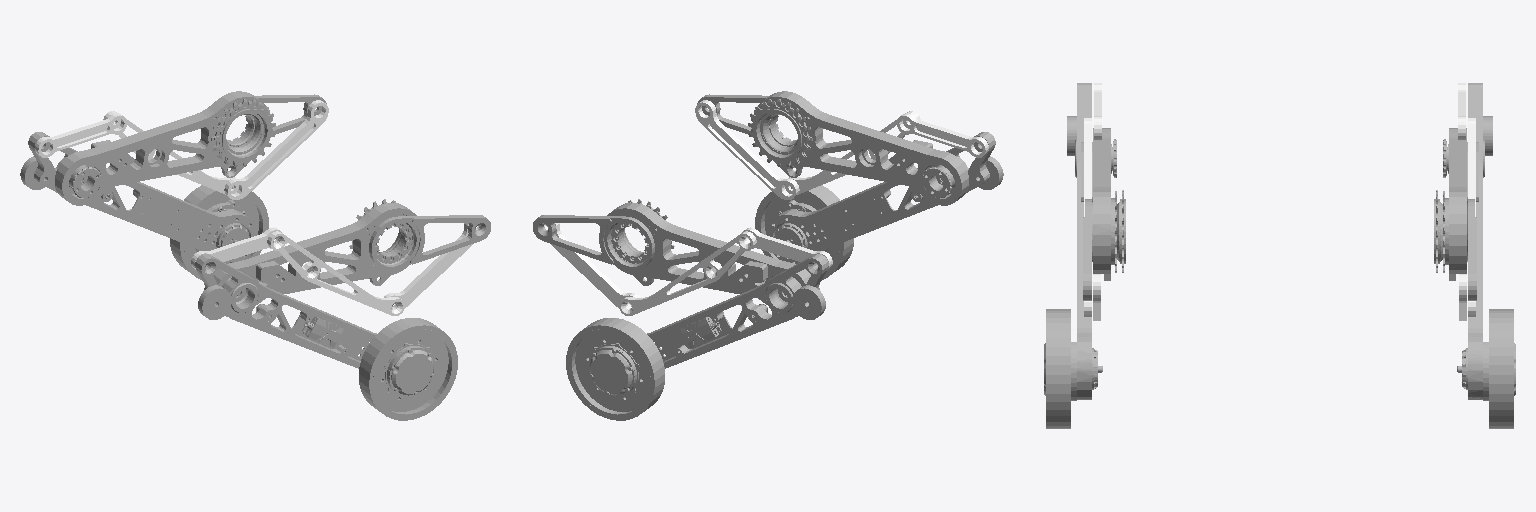
URDF robot description (wheel_leg):
<?xml version="1.0" encoding="utf-8"?>
<!-- This URDF was automatically created by SolidWorks to URDF Exporter! Originally created by Stephen Brawner (brawner@gmail.com) 
     Commit Version: 1.6.0-4-g7f85cfe  Build Version: 1.6.7995.38578
     For more information, please see http://wiki.ros.org/sw_urdf_exporter -->
<robot
  name="wheel_leg">
  <link
    name="base_link">
    <inertial>
      <origin
        xyz="-0.00746094 0.00090321 0.00604838"
        rpy="0 0 0" />
      <mass
        value="16.54216288" />
      <inertia
        ixx="0.41748778"
        ixy="0.00046838"
        ixz="0.01213606"
        iyy="0.41356974"
        iyz="-0.00410317"
        izz="0.49536783" />
    </inertial>
    <visual>
      <origin
        xyz="0 0 0"
        rpy="0 0 0" />
      <geometry>
        <mesh
          filename="package://urdf/meshes/base_link.STL" />
      </geometry>
      <material
        name="">
        <color
          rgba="0.75294 0.75294 0.75294 1" />
      </material>
    </visual>
    <collision>
      <origin
        xyz="0 0 0"
        rpy="0 0 0" />
      <geometry>
        <mesh
          filename="package://urdf/meshes/base_link.STL" />
      </geometry>
    </collision>
  </link>
  <link
    name="left_leg_hip1_link">
    <inertial>
      <origin
        xyz="-0.086207 -0.0093081 -0.0071445"
        rpy="0 0 0" />
      <mass
        value="0.53238" />
      <inertia
        ixx="0.00028513"
        ixy="3.881E-05"
        ixz="-0.00016116"
        iyy="0.0035718"
        iyz="-4.2E-07"
        izz="0.0033255" />
    </inertial>
    <visual>
      <origin
        xyz="0 0 0"
        rpy="0 0 0" />
      <geometry>
        <mesh
          filename="package://urdf/meshes/left_leg_hip1_link.STL" />
      </geometry>
      <material
        name="">
        <color
          rgba="0.75294 0.75294 0.75294 1" />
      </material>
    </visual>
    <collision>
      <origin
        xyz="0 0 0"
        rpy="0 0 0" />
      <geometry>
        <mesh
          filename="package://urdf/meshes/left_leg_hip1_link.STL" />
      </geometry>
    </collision>
  </link>
  <joint
    name="left_leg_hip1_joint"
    type="continuous">
    <origin
      xyz="0 0.187 0"
      rpy="0 0 0" />
    <parent
      link="base_link" />
    <child
      link="left_leg_hip1_link" />
    <axis
      xyz="0 -1 0" />
  </joint>
  <link
    name="left_leg_knee_link">
    <inertial>
      <origin
        xyz="0.06010178 0.00644376 -0.04165431"
        rpy="0 0 0" />
      <mass
        value="0.34933979" />
      <inertia
        ixx="0.00107659"
        ixy="-0.00000993"
        ixz="0.00150980"
        iyy="0.00354276"
        iyz="0.00001318"
        izz="0.00251609" />
    </inertial>
    <visual>
      <origin
        xyz="0 0 0"
        rpy="0 0 0" />
      <geometry>
        <mesh
          filename="package://urdf/meshes/left_leg_knee_link.STL" />
      </geometry>
      <material
        name="">
        <color
          rgba="0.75294 0.75294 0.75294 1" />
      </material>
    </visual>
    <collision>
      <origin
        xyz="0 0 0"
        rpy="0 0 0" />
      <geometry>
        <mesh
          filename="package://urdf/meshes/left_leg_knee_link.STL" />
      </geometry>
    </collision>
  </link>
  <joint
    name="left_leg_knee_joint"
    type="continuous">
    <origin
      xyz="-0.20933 0 -0.016769"
      rpy="0 0 0" />
    <parent
      link="left_leg_hip1_link" />
    <child
      link="left_leg_knee_link" />
    <axis
      xyz="0 1 0" />
  </joint>
  <link
    name="left_leg_wheel_link">
    <inertial>
      <origin
        xyz="0.00020765 0.030642 -0.00012623"
        rpy="0 0 0" />
      <mass
        value="0.28258" />
      <inertia
        ixx="0.00029613"
        ixy="6.6E-07"
        ixz="-4.4E-07"
        iyy="0.00053291"
        iyz="-3.9E-07"
        izz="0.00029565" />
    </inertial>
    <visual>
      <origin
        xyz="0 0 0"
        rpy="0 0 0" />
      <geometry>
        <mesh
          filename="package://urdf/meshes/left_leg_wheel_link.STL" />
      </geometry>
      <material
        name="">
        <color
          rgba="0.75294 0.75294 0.75294 1" />
      </material>
    </visual>
    <collision>
      <origin
        xyz="0 0 0"
        rpy="0 0 0" />
      <geometry>
        <mesh
          filename="package://urdf/meshes/left_leg_wheel_link.STL" />
      </geometry>
    </collision>
  </link>
  <joint
    name="left_leg_wheel_joint"
    type="continuous">
    <origin
      xyz="0.2111 0 -0.13393"
      rpy="0 0 0" />
    <parent
      link="left_leg_knee_link" />
    <child
      link="left_leg_wheel_link" />
    <axis
      xyz="0 1 0" />
  </joint>
  <link
    name="left_leg_hip2_link">
    <inertial>
      <origin
        xyz="0.027043 -0.0063817 -0.0015296"
        rpy="0 0 0" />
      <mass
        value="0.12267" />
      <inertia
        ixx="6.524E-05"
        ixy="-3.832E-05"
        ixz="1.092E-05"
        iyy="0.0002766"
        iyz="2.17E-06"
        izz="0.00025765" />
    </inertial>
    <visual>
      <origin
        xyz="0 0 0"
        rpy="0 0 0" />
      <geometry>
        <mesh
          filename="package://urdf/meshes/left_leg_hip2_link.STL" />
      </geometry>
      <material
        name="">
        <color
          rgba="0.75294 0.75294 0.75294 1" />
      </material>
    </visual>
    <collision>
      <origin
        xyz="0 0 0"
        rpy="0 0 0" />
      <geometry>
        <mesh
          filename="package://urdf/meshes/left_leg_hip2_link.STL" />
      </geometry>
    </collision>
  </link>
  <joint
    name="left_leg_hip2_joint"
    type="continuous">
    <origin
      xyz="0 0.187 0"
      rpy="0 0 0" />
    <parent
      link="base_link" />
    <child
      link="left_leg_hip2_link" />
    <axis
      xyz="0 1 0" />
  </joint>
  <link
    name="left_leg_knee_father1_link">
    <inertial>
      <origin
        xyz="-0.052695 -0.0035417 -0.042635"
        rpy="0 0 0" />
      <mass
        value="0.028977" />
      <inertia
        ixx="2.2144E-05"
        ixy="-1.7925E-08"
        ixz="-3.0736E-05"
        iyy="6.947E-05"
        iyz="2.684E-08"
        izz="4.7639E-05" />
    </inertial>
    <visual>
      <origin
        xyz="0 0 0"
        rpy="0 0 0" />
      <geometry>
        <mesh
          filename="package://urdf/meshes/left_leg_knee_father1_link.STL" />
      </geometry>
      <material
        name="">
        <color
          rgba="1 1 1 1" />
      </material>
    </visual>
    <collision>
      <origin
        xyz="0 0 0"
        rpy="0 0 0" />
      <geometry>
        <mesh
          filename="package://urdf/meshes/left_leg_knee_father1_link.STL" />
      </geometry>
    </collision>
  </link>
  <joint
    name="left_leg_knee_father1_joint"
    type="continuous">
    <origin
      xyz="0.11322 0 -0.0064037"
      rpy="0 0 0" />
    <parent
      link="left_leg_hip2_link" />
    <child
      link="left_leg_knee_father1_link" />
    <axis
      xyz="0 1 0" />
  </joint>
  <link
    name="left_leg_knee_father2_link">
    <inertial>
      <origin
        xyz="-0.083089 0.0049101 0.056116"
        rpy="0 0 0" />
      <mass
        value="0.04884" />
      <inertia
        ixx="7.9882E-05"
        ixy="-3.5508E-08"
        ixz="9.7996E-05"
        iyy="0.00020875"
        iyz="3.7273E-08"
        izz="0.00012937" />
    </inertial>
    <visual>
      <origin
        xyz="0 0 0"
        rpy="0 0 0" />
      <geometry>
        <mesh
          filename="package://urdf/meshes/left_leg_knee_father2_link.STL" />
      </geometry>
      <material
        name="">
        <color
          rgba="1 1 1 1" />
      </material>
    </visual>
    <collision>
      <origin
        xyz="0 0 0"
        rpy="0 0 0" />
      <geometry>
        <mesh
          filename="package://urdf/meshes/left_leg_knee_father2_link.STL" />
      </geometry>
    </collision>
  </link>
  <joint
    name="left_leg_knee_father2_joint"
    type="continuous">
    <origin
      xyz="-0.11227 0 -0.074976"
      rpy="0 0 0" />
    <parent
      link="left_leg_knee_father1_link" />
    <child
      link="left_leg_knee_father2_link" />
    <axis
      xyz="0 1 0" />
  </joint>
  <link
    name="left_leg_knee_father3_link">
    <inertial>
      <origin
        xyz="-0.048146 -0.0040765 -0.0038569"
        rpy="0 0 0" />
      <mass
        value="0.020187" />
      <inertia
        ixx="1.0501E-06"
        ixy="0"
        ixz="-1.949E-06"
        iyy="2.6055E-05"
        iyz="0"
        izz="2.5224E-05" />
    </inertial>
    <visual>
      <origin
        xyz="0 0 0"
        rpy="0 0 0" />
      <geometry>
        <mesh
          filename="package://urdf/meshes/left_leg_knee_father3_link.STL" />
      </geometry>
      <material
        name="">
        <color
          rgba="1 1 1 1" />
      </material>
    </visual>
    <collision>
      <origin
        xyz="0 0 0"
        rpy="0 0 0" />
      <geometry>
        <mesh
          filename="package://urdf/meshes/left_leg_knee_father3_link.STL" />
      </geometry>
    </collision>
  </link>
  <joint
    name="left_leg_knee_father3_joint"
    type="continuous">
    <origin
      xyz="-0.15952 0 0.12148"
      rpy="0 0 0" />
    <parent
      link="left_leg_knee_father2_link" />
    <child
      link="left_leg_knee_father3_link" />
    <axis
      xyz="0 1 0" />
  </joint>
  <link
    name="right_leg_hip1_link">
    <inertial>
      <origin
        xyz="-0.086207 0.010308 -0.0071445"
        rpy="0 0 0" />
      <mass
        value="0.53238" />
      <inertia
        ixx="0.00028513"
        ixy="-3.881E-05"
        ixz="-0.00016116"
        iyy="0.0035718"
        iyz="4.2E-07"
        izz="0.0033255" />
    </inertial>
    <visual>
      <origin
        xyz="0 0 0"
        rpy="0 0 0" />
      <geometry>
        <mesh
          filename="package://urdf/meshes/right_leg_hip1_link.STL" />
      </geometry>
      <material
        name="">
        <color
          rgba="0.75294 0.75294 0.75294 1" />
      </material>
    </visual>
    <collision>
      <origin
        xyz="0 0 0"
        rpy="0 0 0" />
      <geometry>
        <mesh
          filename="package://urdf/meshes/right_leg_hip1_link.STL" />
      </geometry>
    </collision>
  </link>
  <joint
    name="right_leg_hip1_joint"
    type="continuous">
    <origin
      xyz="0 -0.188 0"
      rpy="0 0 0" />
    <parent
      link="base_link" />
    <child
      link="right_leg_hip1_link" />
    <axis
      xyz="0 1 0" />
  </joint>
  <link
    name="right_leg_knee_link">
    <inertial>
      <origin
        xyz="0.06010178 -0.00544376 -0.04165431"
        rpy="0 0 0" />
      <mass
        value="0.34934" />
      <inertia
        ixx="0.00107659"
        ixy="9.93E-06"
        ixz="0.0015098"
        iyy="0.00354276"
        iyz="-1.318E-05"
        izz="0.00251609" />
    </inertial>
    <visual>
      <origin
        xyz="0 0 0"
        rpy="0 0 0" />
      <geometry>
        <mesh
          filename="package://urdf/meshes/right_leg_knee_link.STL" />
      </geometry>
      <material
        name="">
        <color
          rgba="0.75294 0.75294 0.75294 1" />
      </material>
    </visual>
    <collision>
      <origin
        xyz="0 0 0"
        rpy="0 0 0" />
      <geometry>
        <mesh
          filename="package://urdf/meshes/right_leg_knee_link.STL" />
      </geometry>
    </collision>
  </link>
  <joint
    name="right_leg_knee_joint"
    type="continuous">
    <origin
      xyz="-0.20933 0 -0.016769"
      rpy="0 0 0" />
    <parent
      link="right_leg_hip1_link" />
    <child
      link="right_leg_knee_link" />
    <axis
      xyz="0 -1 0" />
  </joint>
  <link
    name="right_leg_wheel_link">
    <inertial>
      <origin
        xyz="0.00019389 -0.02535964 -0.00010647"
        rpy="0 0 0" />
      <mass
        value="0.36500947" />
      <inertia
        ixx="0.00033416"
        ixy="-4.9E-07"
        ixz="-4.8E-07"
        iyy="0.00055017"
        iyz="2.6E-07"
        izz="0.00033351" />
    </inertial>
    <visual>
      <origin
        xyz="0 0 0"
        rpy="0 0 0" />
      <geometry>
        <mesh
          filename="package://urdf/meshes/right_leg_wheel_link.STL" />
      </geometry>
      <material
        name="">
        <color
          rgba="0.75294 0.75294 0.75294 1" />
      </material>
    </visual>
    <collision>
      <origin
        xyz="0 0 0"
        rpy="0 0 0" />
      <geometry>
        <mesh
          filename="package://urdf/meshes/right_leg_wheel_link.STL" />
      </geometry>
    </collision>
  </link>
  <joint
    name="right_leg_wheel_joint"
    type="continuous">
    <origin
      xyz="0.2111 0 -0.13393"
      rpy="0 0 0" />
    <parent
      link="right_leg_knee_link" />
    <child
      link="right_leg_wheel_link" />
    <axis
      xyz="0 -1 0" />
  </joint>
  <link
    name="right_leg_hip2_link">
    <inertial>
      <origin
        xyz="0.027043 0.0073817 -0.0015296"
        rpy="0 0 0" />
      <mass
        value="0.12267" />
      <inertia
        ixx="6.524E-05"
        ixy="3.832E-05"
        ixz="1.092E-05"
        iyy="0.0002766"
        iyz="-2.17E-06"
        izz="0.00025765" />
    </inertial>
    <visual>
      <origin
        xyz="0 0 0"
        rpy="0 0 0" />
      <geometry>
        <mesh
          filename="package://urdf/meshes/right_leg_hip2_link.STL" />
      </geometry>
      <material
        name="">
        <color
          rgba="0.75294 0.75294 0.75294 1" />
      </material>
    </visual>
    <collision>
      <origin
        xyz="0 0 0"
        rpy="0 0 0" />
      <geometry>
        <mesh
          filename="package://urdf/meshes/right_leg_hip2_link.STL" />
      </geometry>
    </collision>
  </link>
  <joint
    name="right_leg_hip2_joint"
    type="continuous">
    <origin
      xyz="0 -0.188 0"
      rpy="0 0 0" />
    <parent
      link="base_link" />
    <child
      link="right_leg_hip2_link" />
    <axis
      xyz="0 -1 0" />
  </joint>
  <link
    name="right_leg_knee_father1_link">
    <inertial>
      <origin
        xyz="-0.052695 0.0045417 -0.042635"
        rpy="0 0 0" />
      <mass
        value="0.028977" />
      <inertia
        ixx="2.2144E-05"
        ixy="1.7925E-08"
        ixz="-3.0736E-05"
        iyy="6.947E-05"
        iyz="-2.684E-08"
        izz="4.7639E-05" />
    </inertial>
    <visual>
      <origin
        xyz="0 0 0"
        rpy="0 0 0" />
      <geometry>
        <mesh
          filename="package://urdf/meshes/right_leg_knee_father1_link.STL" />
      </geometry>
      <material
        name="">
        <color
          rgba="1 1 1 1" />
      </material>
    </visual>
    <collision>
      <origin
        xyz="0 0 0"
        rpy="0 0 0" />
      <geometry>
        <mesh
          filename="package://urdf/meshes/right_leg_knee_father1_link.STL" />
      </geometry>
    </collision>
  </link>
  <joint
    name="right_leg_knee_father1_joint"
    type="continuous">
    <origin
      xyz="0.11322 0 -0.0064037"
      rpy="0 0 0" />
    <parent
      link="right_leg_hip2_link" />
    <child
      link="right_leg_knee_father1_link" />
    <axis
      xyz="0 -1 0" />
  </joint>
  <link
    name="right_leg_knee_father2_link">
    <inertial>
      <origin
        xyz="-0.083089 -0.0039101 0.056116"
        rpy="0 0 0" />
      <mass
        value="0.04884" />
      <inertia
        ixx="7.9882E-05"
        ixy="3.5508E-08"
        ixz="9.7996E-05"
        iyy="0.00020875"
        iyz="-3.7273E-08"
        izz="0.00012937" />
    </inertial>
    <visual>
      <origin
        xyz="0 0 0"
        rpy="0 0 0" />
      <geometry>
        <mesh
          filename="package://urdf/meshes/right_leg_knee_father2_link.STL" />
      </geometry>
      <material
        name="">
        <color
          rgba="1 1 1 1" />
      </material>
    </visual>
    <collision>
      <origin
        xyz="0 0 0"
        rpy="0 0 0" />
      <geometry>
        <mesh
          filename="package://urdf/meshes/right_leg_knee_father2_link.STL" />
      </geometry>
    </collision>
  </link>
  <joint
    name="right_leg_knee_father2_joint"
    type="continuous">
    <origin
      xyz="-0.11227 0 -0.074976"
      rpy="0 0 0" />
    <parent
      link="right_leg_knee_father1_link" />
    <child
      link="right_leg_knee_father2_link" />
    <axis
      xyz="0 -1 0" />
  </joint>
  <link
    name="right_leg_knee_father3_link">
    <inertial>
      <origin
        xyz="-0.048146 0.0050765 -0.0038569"
        rpy="0 0 0" />
      <mass
        value="0.020187" />
      <inertia
        ixx="1.0501E-06"
        ixy="0"
        ixz="-1.949E-06"
        iyy="2.6055E-05"
        iyz="0"
        izz="2.5224E-05" />
    </inertial>
    <visual>
      <origin
        xyz="0 0 0"
        rpy="0 0 0" />
      <geometry>
        <mesh
          filename="package://urdf/meshes/right_leg_knee_father3_link.STL" />
      </geometry>
      <material
        name="">
        <color
          rgba="1 1 1 1" />
      </material>
    </visual>
    <collision>
      <origin
        xyz="0 0 0"
        rpy="0 0 0" />
      <geometry>
        <mesh
          filename="package://urdf/meshes/right_leg_knee_father3_link.STL" />
      </geometry>
    </collision>
  </link>
  <joint
    name="right_leg_knee_father3_joint"
    type="continuous">
    <origin
      xyz="-0.15952 0 0.12148"
      rpy="0 0 0" />
    <parent
      link="right_leg_knee_father2_link" />
    <child
      link="right_leg_knee_father3_link" />
    <axis
      xyz="0 -1 0" />
  </joint>
</robot>

--- What the picture shows (computed from the rendered views, not written in the file) ---
The picture shows the robot from 3 angles, left to right: view 1: azimuth 30°, elevation 25°; view 2: azimuth 150°, elevation 25°; view 3: azimuth 270°, elevation 25°; orthographic projection.
Model wheel_leg with 15 links and 14 joints (14 continuous), rooted at base_link, posed every joint at zero.
Visible links, largest first — view 1: left_leg_hip1_link, right_leg_wheel_link, right_leg_knee_link, left_leg_knee_link, right_leg_hip1_link, right_leg_hip2_link, left_leg_hip2_link, left_leg_wheel_link, right_leg_knee_father2_link, left_leg_knee_father1_link, left_leg_knee_father3_link, right_leg_knee_father1_link (+2 smaller); view 2: right_leg_hip1_link, left_leg_wheel_link, left_leg_knee_link, right_leg_knee_link, left_leg_hip1_link, left_leg_hip2_link, right_leg_hip2_link, right_leg_wheel_link, left_leg_knee_father2_link, right_leg_knee_father1_link, right_leg_knee_father3_link, left_leg_knee_father1_link (+2 smaller); view 3: left_leg_wheel_link, right_leg_wheel_link, left_leg_knee_link, right_leg_knee_link, left_leg_hip1_link, right_leg_hip1_link, left_leg_hip2_link, right_leg_hip2_link, left_leg_knee_father2_link, right_leg_knee_father2_link.
Boxes of the visible links, bbox=[...] form: left_leg_hip1_link: bbox=[55, 91, 272, 205]; right_leg_wheel_link: bbox=[359, 318, 457, 420]; right_leg_knee_link: bbox=[195, 254, 376, 368]; left_leg_knee_link: bbox=[20, 132, 256, 263]; right_leg_hip1_link: bbox=[213, 202, 416, 316]; right_leg_hip2_link: bbox=[349, 199, 490, 269]; left_leg_hip2_link: bbox=[214, 94, 326, 166]; left_leg_wheel_link: bbox=[170, 185, 268, 279]; right_leg_knee_father2_link: bbox=[267, 231, 404, 315]; left_leg_knee_father1_link: bbox=[224, 100, 328, 199]; left_leg_knee_father3_link: bbox=[35, 113, 126, 157]; right_leg_knee_father1_link: bbox=[384, 223, 479, 307]; right_leg_hip1_link: bbox=[751, 91, 968, 205]; left_leg_wheel_link: bbox=[566, 318, 664, 420]; left_leg_knee_link: bbox=[647, 254, 828, 368]; right_leg_knee_link: bbox=[767, 132, 1003, 263]; left_leg_hip1_link: bbox=[607, 202, 810, 316]; left_leg_hip2_link: bbox=[533, 199, 674, 269]; right_leg_hip2_link: bbox=[697, 94, 809, 166]; right_leg_wheel_link: bbox=[755, 185, 853, 279]; left_leg_knee_father2_link: bbox=[619, 231, 756, 315]; right_leg_knee_father1_link: bbox=[695, 100, 799, 199]; right_leg_knee_father3_link: bbox=[897, 113, 988, 157]; left_leg_knee_father1_link: bbox=[544, 223, 639, 307]; left_leg_wheel_link: bbox=[1457, 309, 1515, 428]; right_leg_wheel_link: bbox=[1044, 309, 1102, 428]; left_leg_knee_link: bbox=[1443, 83, 1492, 399]; right_leg_knee_link: bbox=[1067, 83, 1116, 399]; left_leg_hip1_link: bbox=[1443, 128, 1478, 280]; right_leg_hip1_link: bbox=[1081, 128, 1116, 280]; left_leg_hip2_link: bbox=[1434, 190, 1476, 300]; right_leg_hip2_link: bbox=[1083, 190, 1125, 300]; left_leg_knee_father2_link: bbox=[1468, 118, 1475, 316]; right_leg_knee_father2_link: bbox=[1084, 118, 1091, 316].
Bounding box of the posed robot: 0.3995 × 0.471 × 0.2628 m (x, y, z).
14 mesh visuals loaded from 15 distinct referenced files (14 binary STL); not drawn: 1 (reference not matched to a file when rendering).
